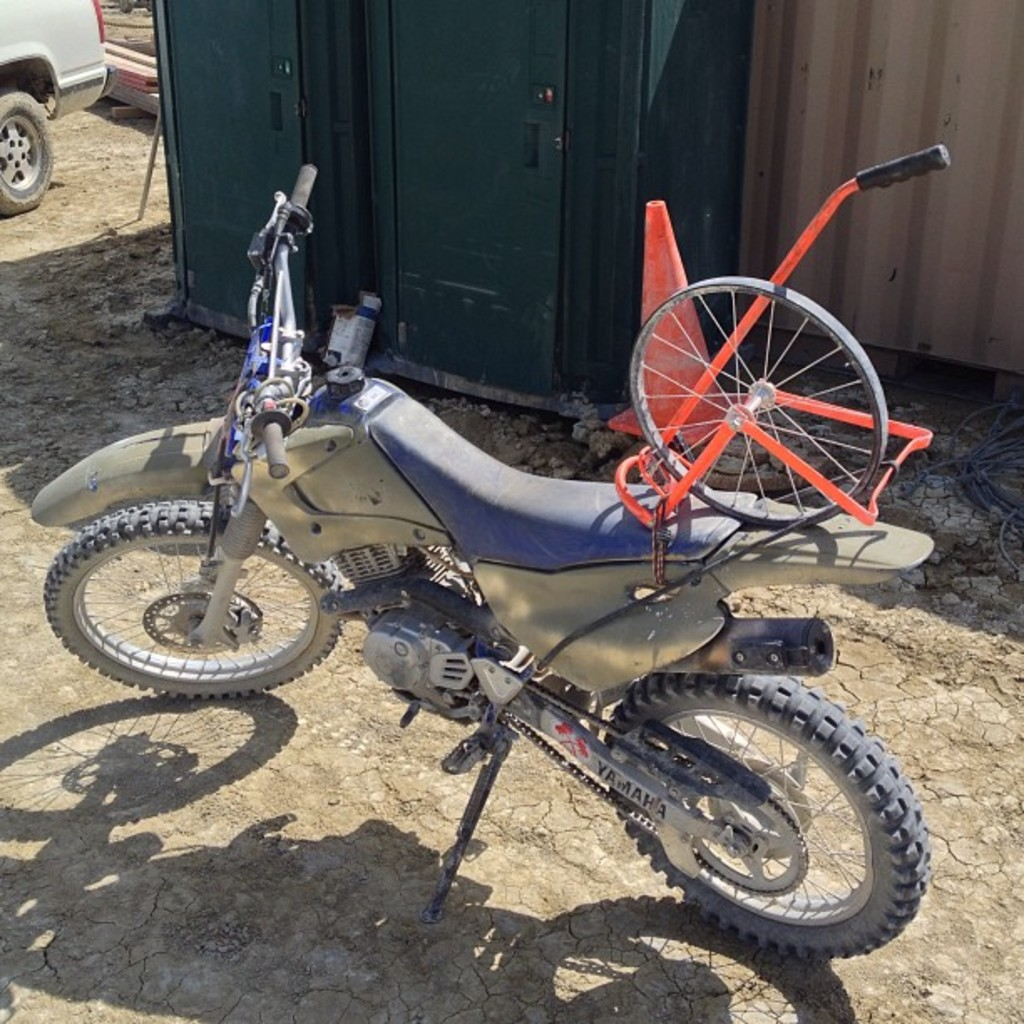Wheel: (607, 674, 937, 962), (616, 249, 895, 532), (42, 497, 353, 704), (0, 82, 52, 221)
